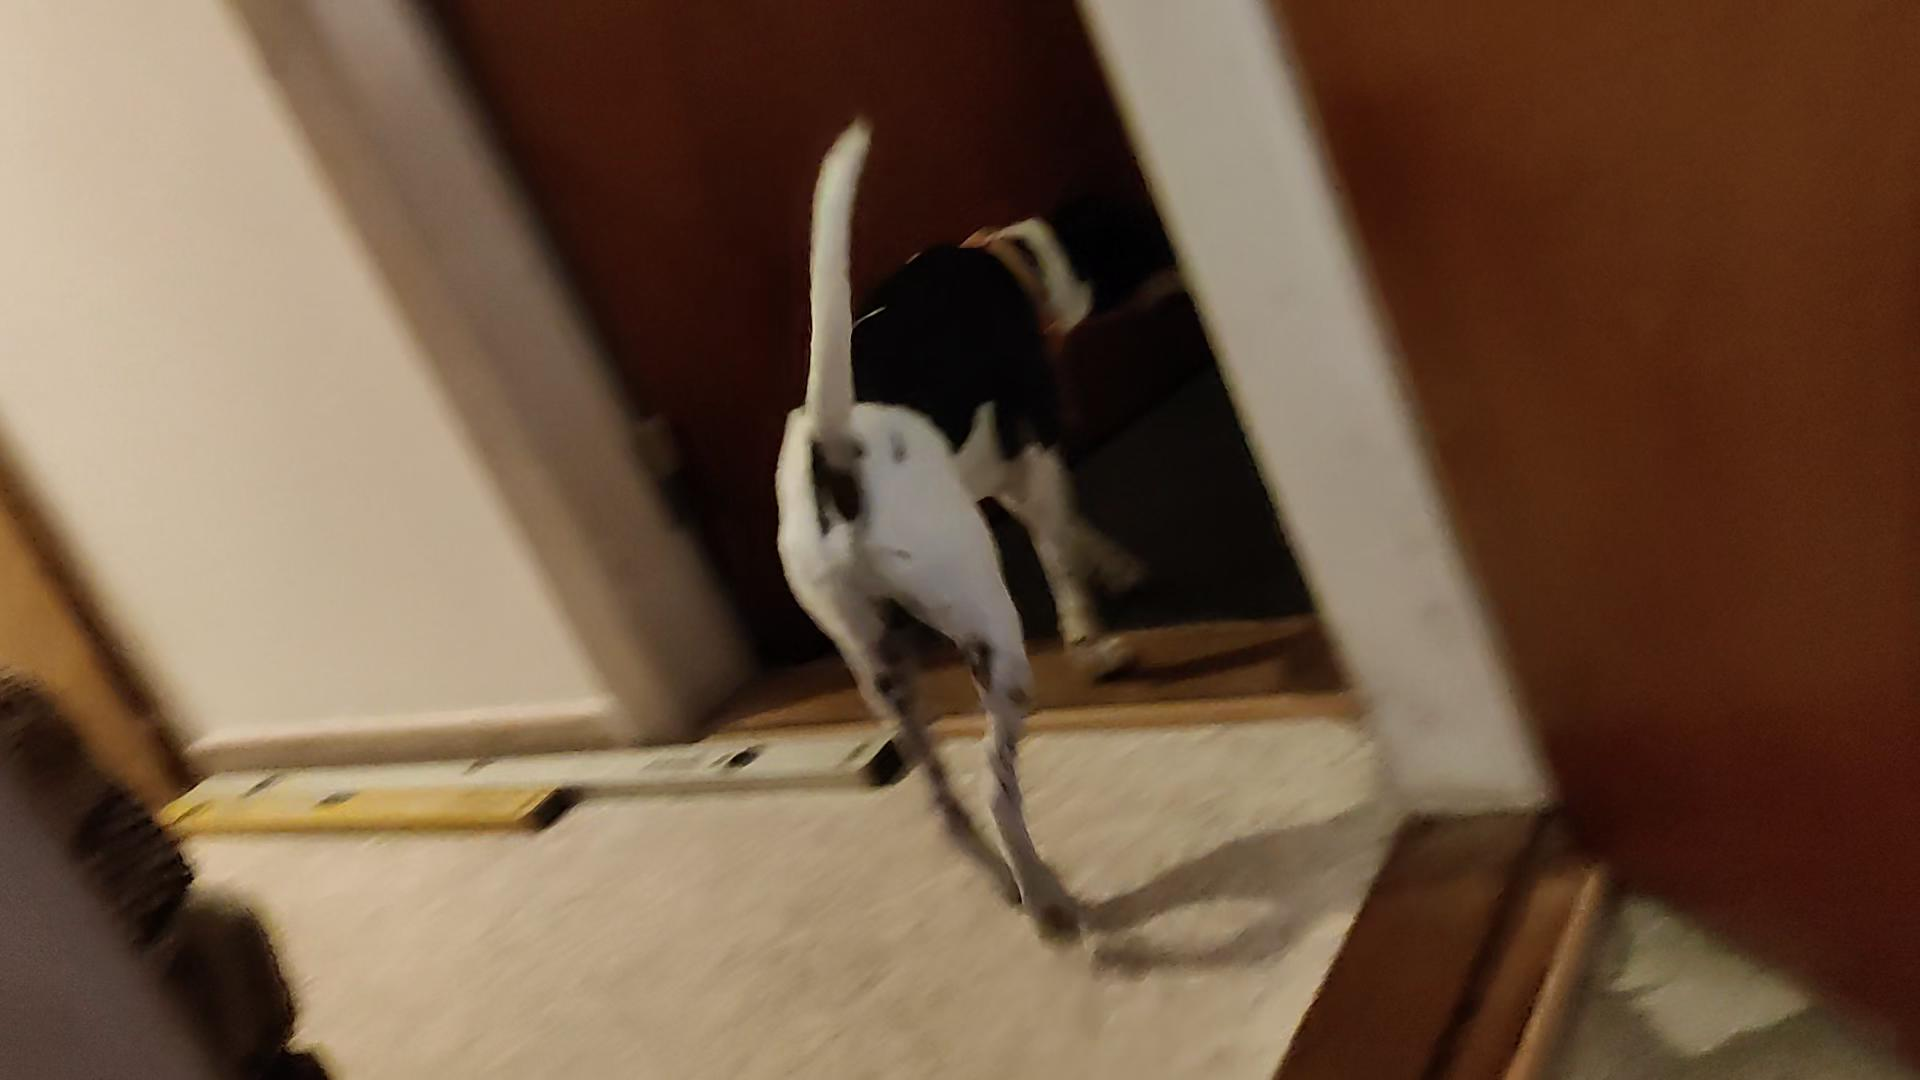Dog: (750, 96, 1244, 972)
